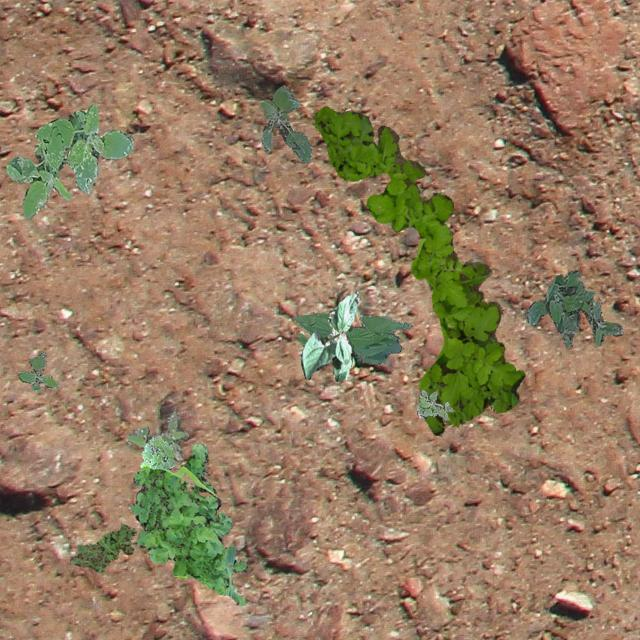crop: (293, 312, 411, 364), (301, 290, 358, 380)
weed: (312, 104, 524, 434), (128, 442, 246, 604), (4, 104, 132, 218), (524, 270, 622, 346), (258, 85, 310, 162), (126, 408, 188, 461), (68, 524, 136, 572), (18, 350, 58, 390), (140, 434, 174, 469), (416, 388, 452, 419)
